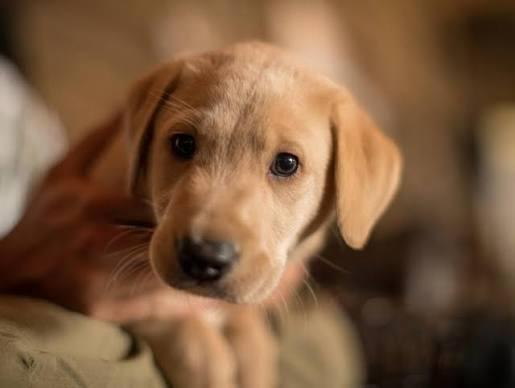puppy-dog: (85, 41, 403, 388)
